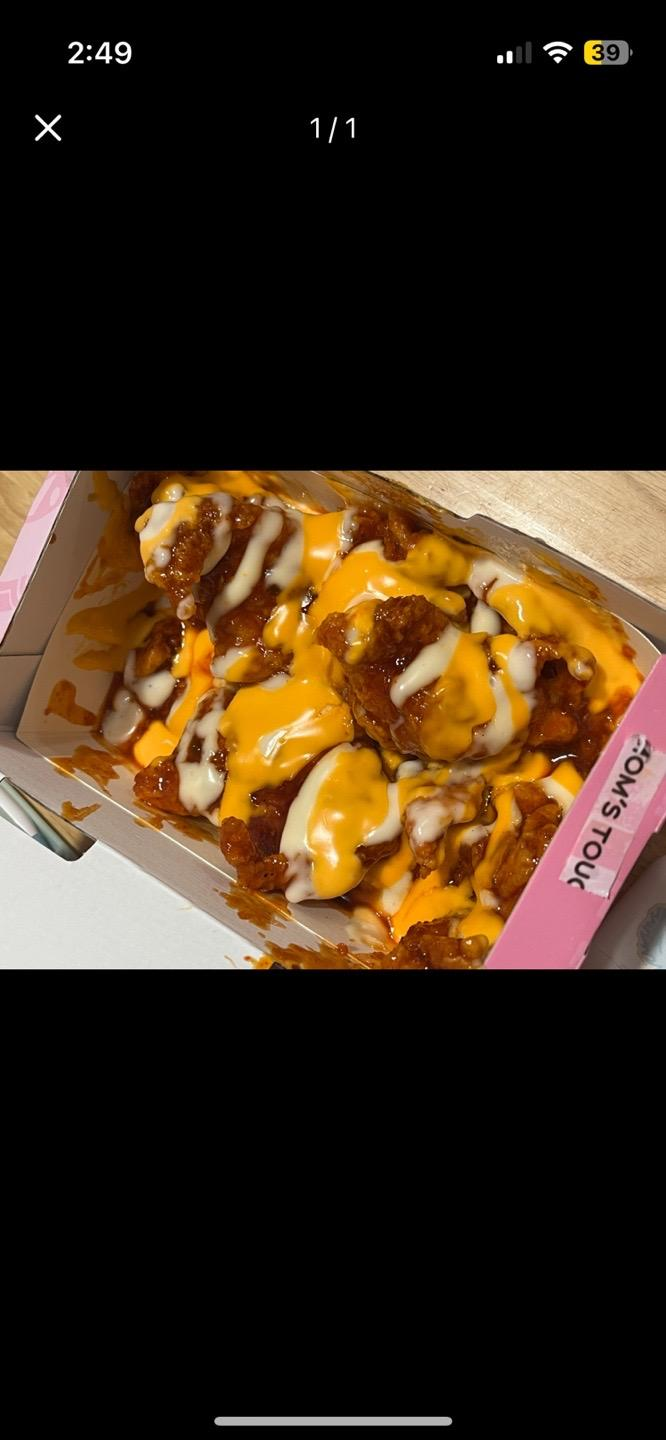Lunch Box: (0, 471, 665, 969)
